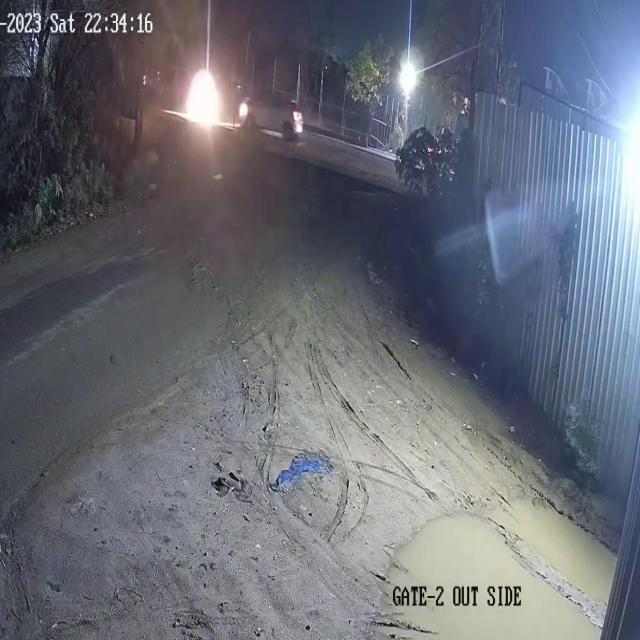accident: (183, 62, 305, 146)
